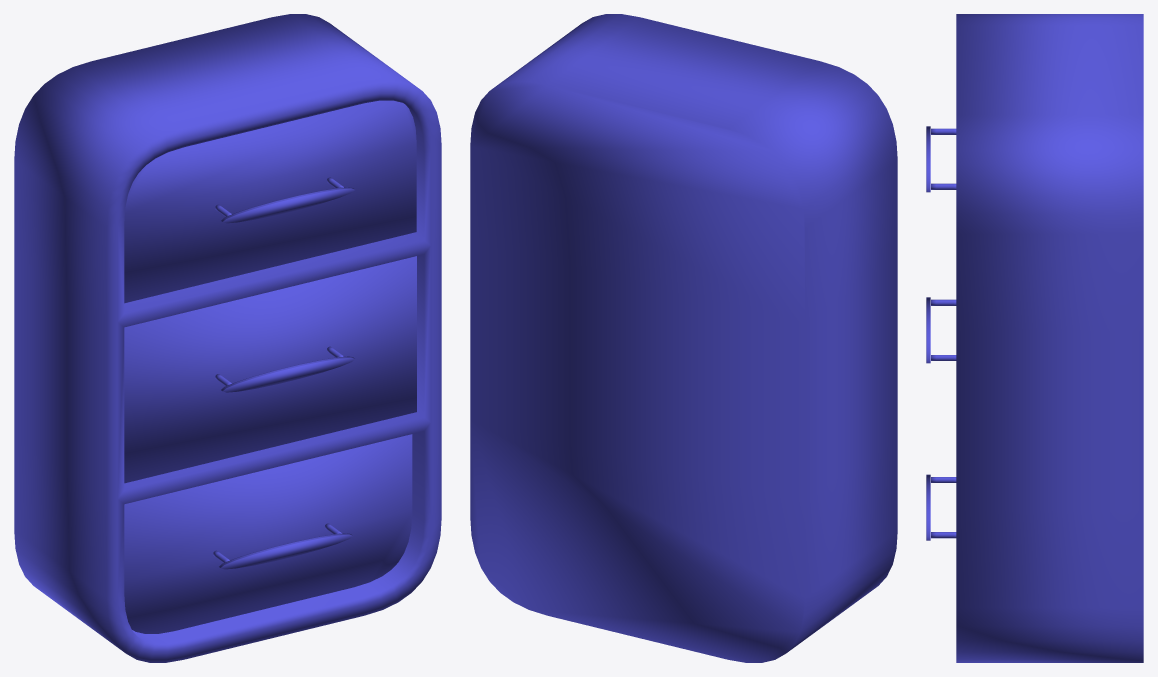
Rendered from komad namestaja bozpomozi.fbx.
3 renders of one model, left to right at view 1: azimuth 30°, elevation 25°; view 2: azimuth 150°, elevation 25°; view 3: azimuth 270°, elevation 25°, orthographic.
Visible parts, largest first — view 1: Box052, Box054, Box053, Box055, Cylinder030, Cylinder029, Cylinder031; view 2: Box052; view 3: Box052, Cylinder031, Cylinder029, Cylinder030.
Boxes of the visible parts, x1,y1,x2,y2 form: Box052: (14, 14, 441, 662); Box054: (124, 256, 416, 483); Box053: (124, 100, 416, 303); Box055: (124, 434, 412, 633); Cylinder030: (215, 346, 355, 392); Cylinder029: (213, 523, 353, 569); Cylinder031: (215, 177, 355, 223); Box052: (470, 14, 897, 662); Box052: (956, 14, 1143, 662); Cylinder031: (926, 126, 956, 192); Cylinder029: (926, 474, 956, 540); Cylinder030: (926, 297, 956, 363).
Size of the model in its own units: 50.08 by 75.82 by 27.84.
